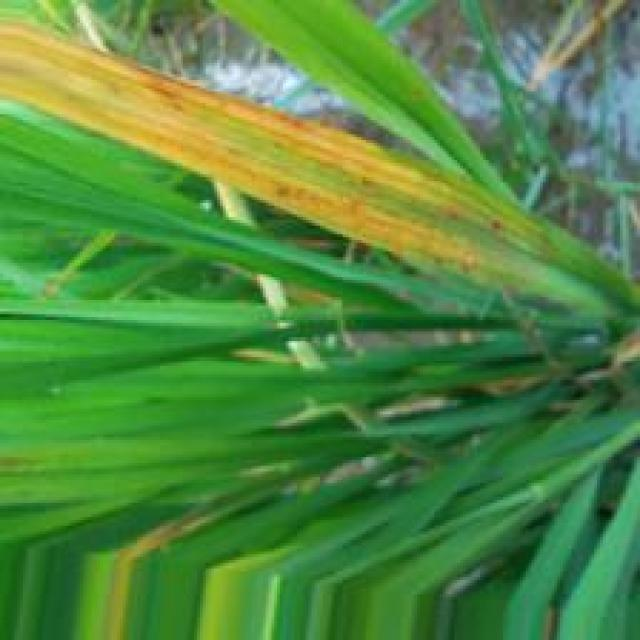Bacterial_Leaf_Blight: (5, 23, 477, 284)
